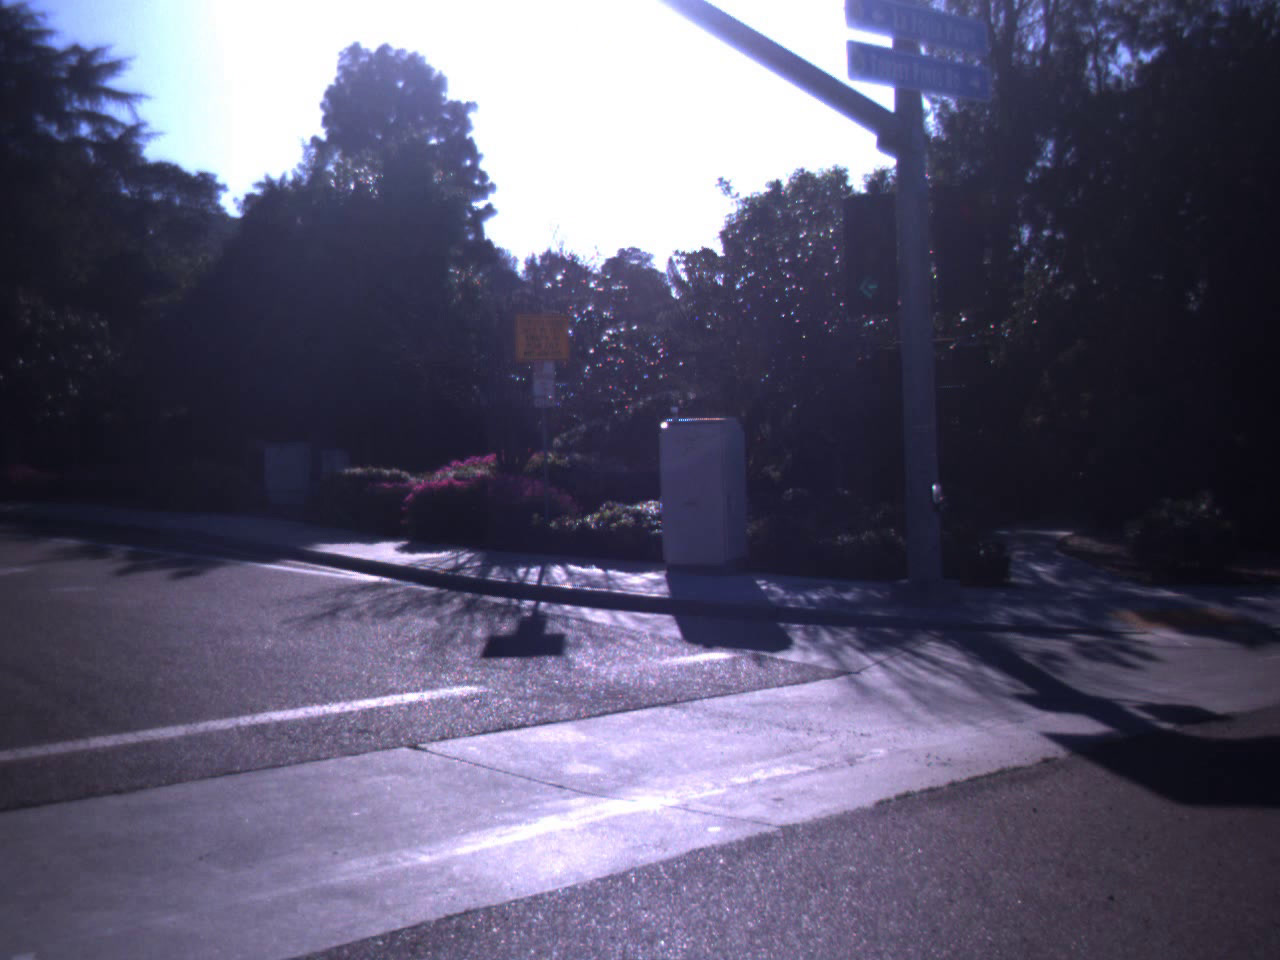go: (833, 214, 901, 304)
